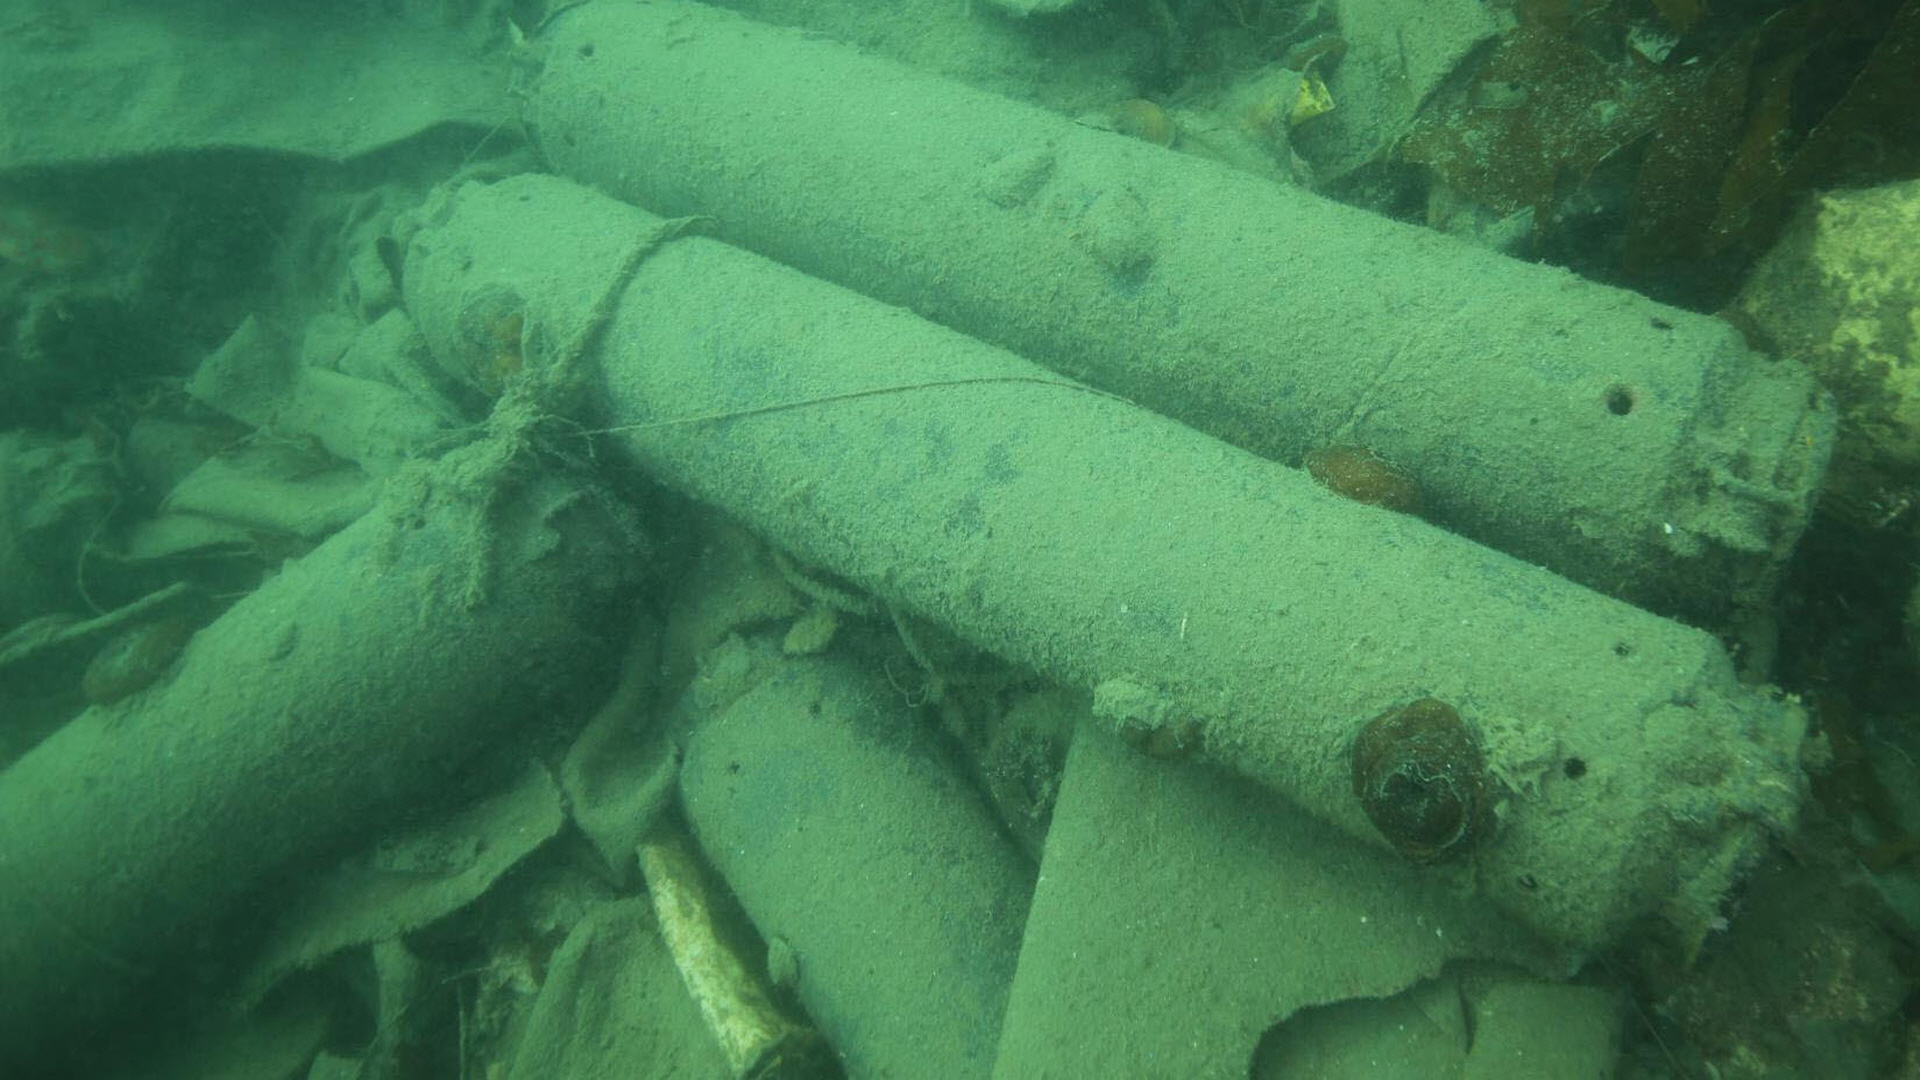bundle of ropes: (409, 206, 709, 617)
eel fish trap: (393, 157, 1817, 977), (497, 0, 1844, 618), (0, 426, 647, 1046)
